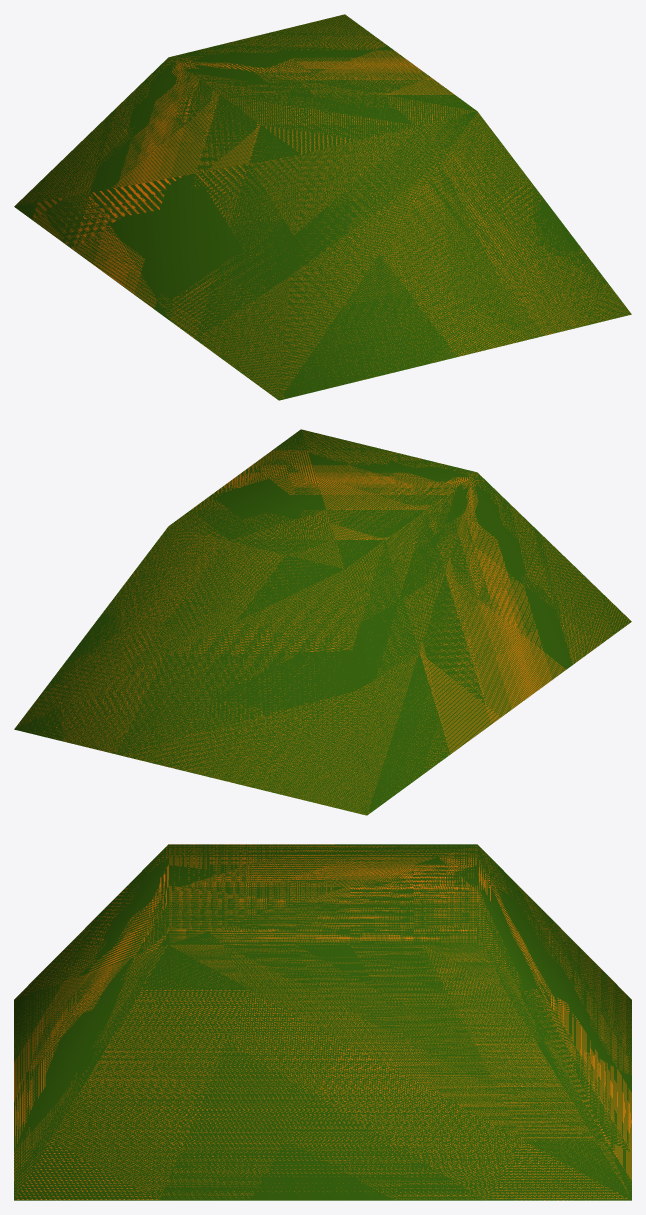
File: original-10.obj
The picture shows the model from 3 angles, top to bottom: view 1: azimuth 30°, elevation 25°; view 2: azimuth 150°, elevation 25°; view 3: azimuth 270°, elevation 25°; orthographic projection. The views are drawn at different scales.
Parts seen in each view (by area): view 1: Component_5_5/Component_5/mesh4/mesh4-geometry#mesh4-geometry; view 2: Component_5_5/Component_5/mesh4/mesh4-geometry#mesh4-geometry; view 3: Component_5_5/Component_5/mesh4/mesh4-geometry#mesh4-geometry.
Part boxes in pixels (<box>): Component_5_5/Component_5/mesh4/mesh4-geometry#mesh4-geometry: <box>14,14,631,400</box>; Component_5_5/Component_5/mesh4/mesh4-geometry#mesh4-geometry: <box>14,429,631,815</box>; Component_5_5/Component_5/mesh4/mesh4-geometry#mesh4-geometry: <box>14,844,631,1200</box>.
Bounding box in the file's own units: 0.0787 × 0.0376 × 0.1023.
